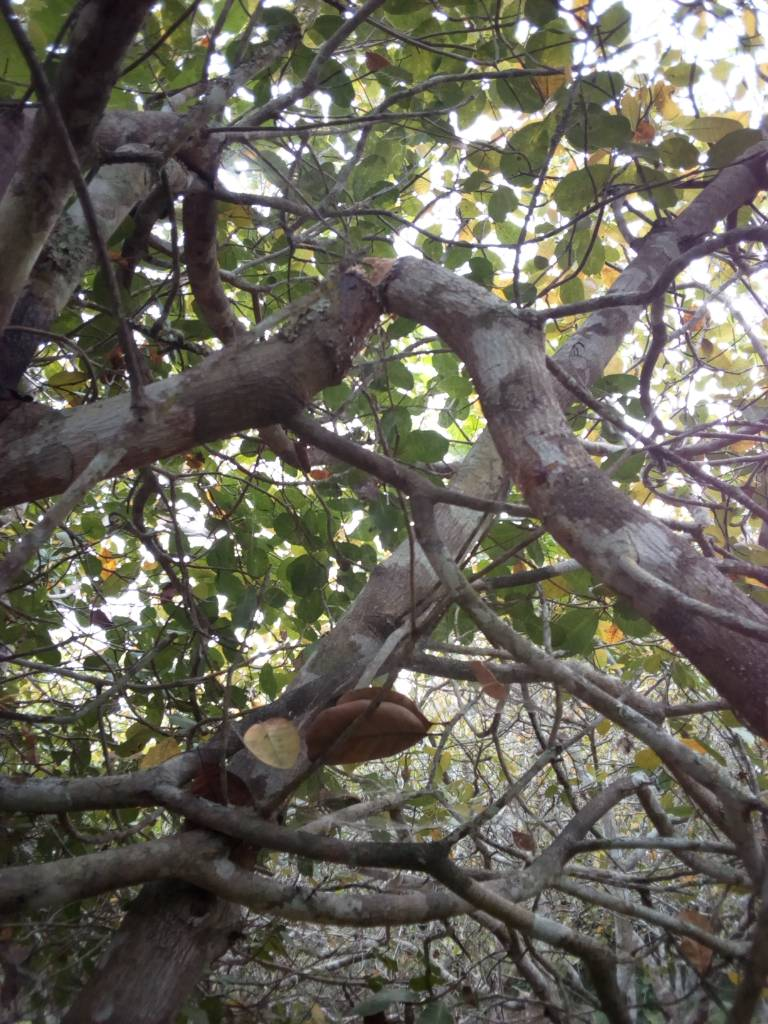Analepse trifasciata: (324, 235, 446, 350)
